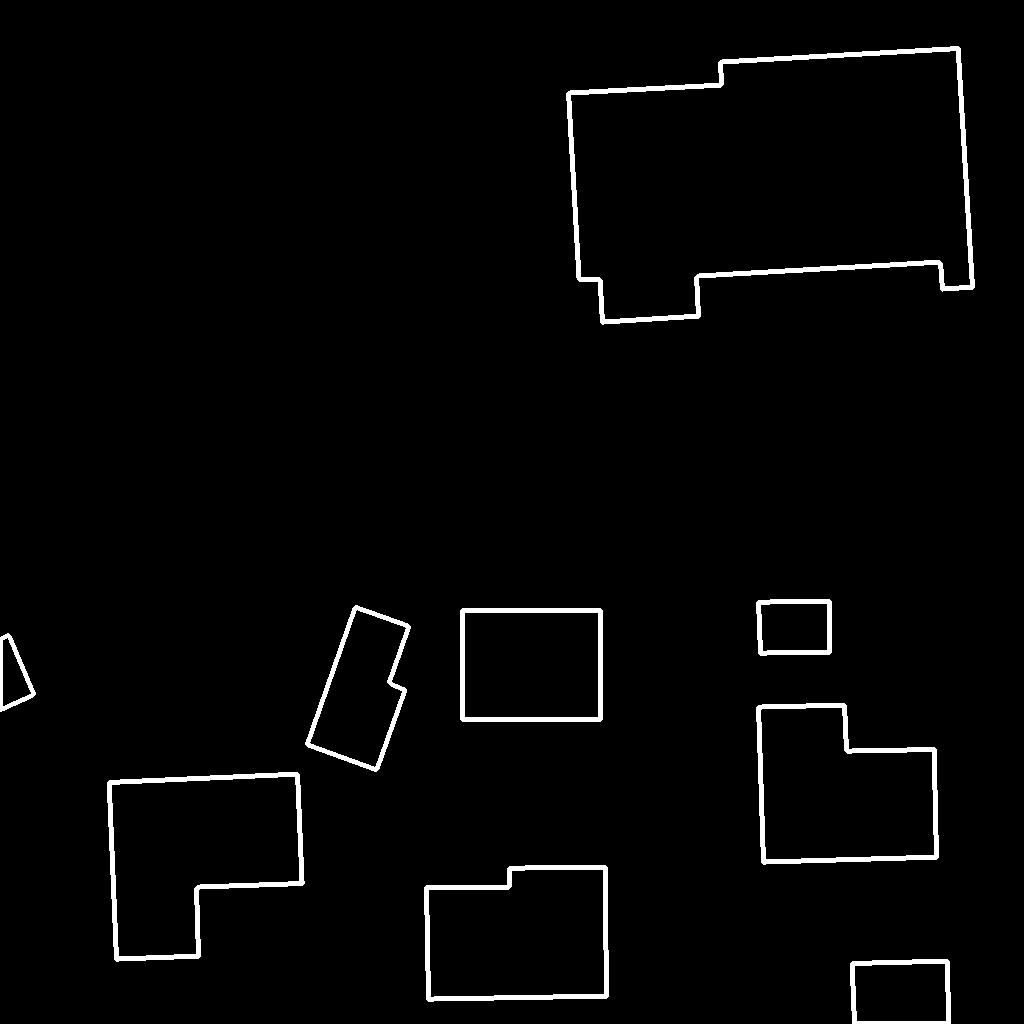building: (568, 48, 974, 323), (109, 774, 303, 960), (758, 705, 938, 863), (426, 867, 608, 1000), (307, 607, 410, 771), (462, 610, 602, 720), (852, 961, 950, 1024), (758, 601, 831, 654), (0, 635, 35, 711), (1022, 856, 1024, 929)
